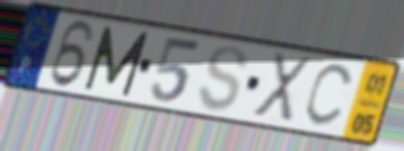5: (148, 37, 204, 105)
6: (47, 18, 96, 91)
C: (301, 62, 357, 130)
M: (81, 23, 153, 99)
S: (195, 43, 250, 115)
X: (249, 50, 314, 128)
